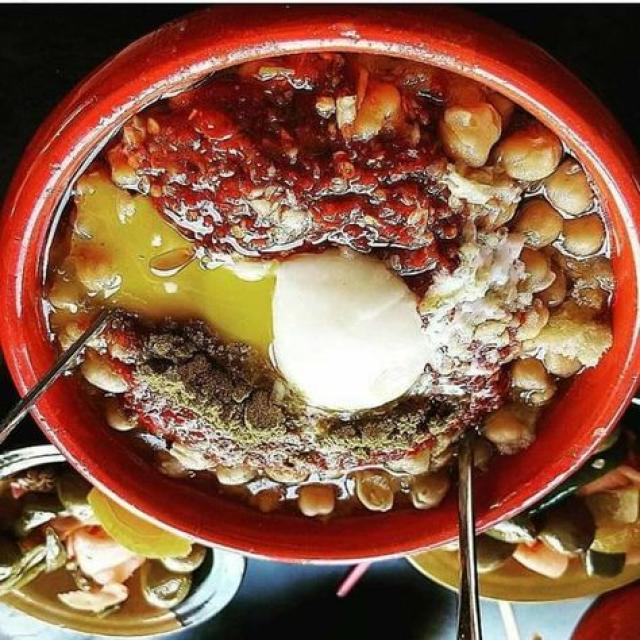Lablabi: (0, 19, 633, 568)
